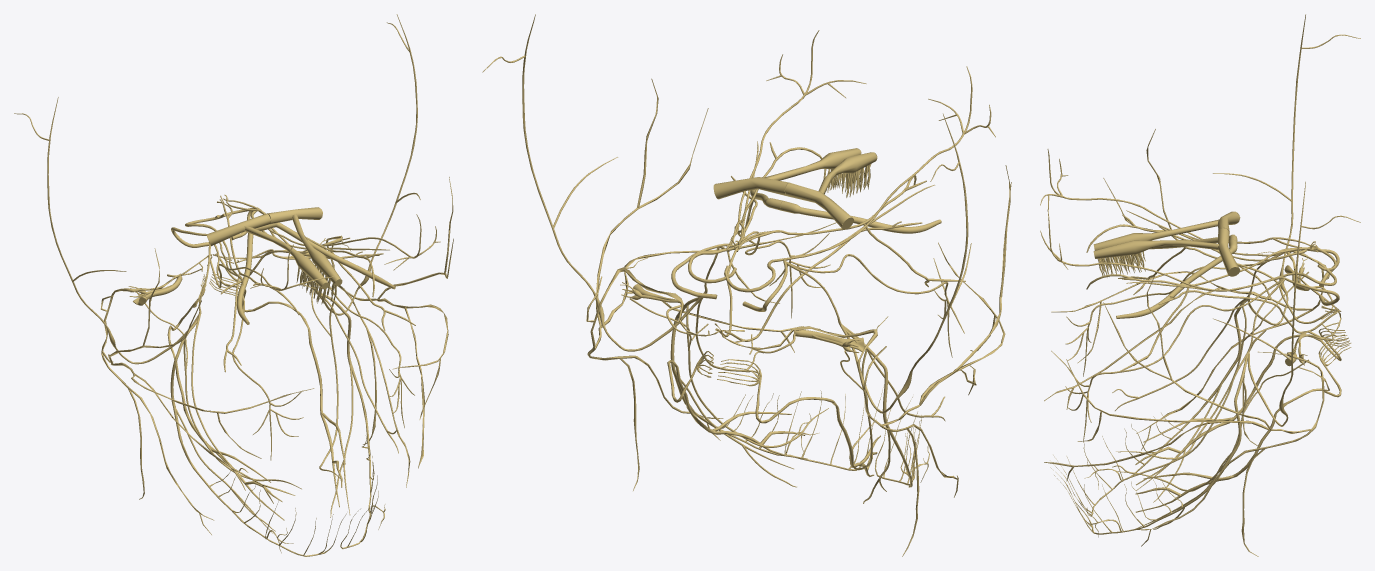
File: nervous-head-mobile.glb
The picture shows the model from 3 angles, left to right: view 1: azimuth 30°, elevation 25°; view 2: azimuth 150°, elevation 25°; view 3: azimuth 270°, elevation 25°; orthographic projection. The views are drawn at different scales.
Parts seen in each view (by area): view 1: za.facial-nerve-vii-r, za.facial-nerve-vii-l, za.olfactory-nerve-i-r, za.olfactory-nerve-i-l, za.hypoglossal-nerve-xii-l, za.meningeal-branch-of-maxillary-nerve-r, za.hypoglossal-nerve-xii-r, za.inferior-alveolar-nerve-r, za.meningeal-branch-of-maxillary-nerve-l, za.oculomotor-nerve-iii-l, za.inferior-alveolar-nerve-l, za.optic-nerve-ii-l (+4 smaller); view 2: za.facial-nerve-vii-l, za.facial-nerve-vii-r, za.olfactory-nerve-i-r, za.olfactory-nerve-i-l, za.meningeal-branch-of-maxillary-nerve-l, za.hypoglossal-nerve-xii-l, za.hypoglossal-nerve-xii-r, za.meningeal-branch-of-maxillary-nerve-r, za.inferior-alveolar-nerve-l, za.oculomotor-nerve-iii-r, za.ophthalmic-nerve-r, za.optic-nerve-ii-r (+7 smaller); view 3: za.facial-nerve-vii-l, za.facial-nerve-vii-r, za.olfactory-nerve-i-l, za.hypoglossal-nerve-xii-l, za.olfactory-nerve-i-r, za.hypoglossal-nerve-xii-r, za.meningeal-branch-of-maxillary-nerve-l, za.meningeal-branch-of-maxillary-nerve-r, za.inferior-alveolar-nerve-l, za.inferior-alveolar-nerve-r, za.oculomotor-nerve-iii-l, za.maxillary-nerve-l (+11 smaller).
Part boxes in pixels (bbox=[...]): za.facial-nerve-vii-r: bbox=[100, 248, 314, 534]; za.facial-nerve-vii-l: bbox=[212, 177, 453, 487]; za.olfactory-nerve-i-r: bbox=[206, 213, 329, 304]; za.olfactory-nerve-i-l: bbox=[267, 207, 342, 301]; za.hypoglossal-nerve-xii-l: bbox=[209, 272, 345, 507]; za.meningeal-branch-of-maxillary-nerve-r: bbox=[14, 97, 198, 364]; za.hypoglossal-nerve-xii-r: bbox=[167, 274, 284, 520]; za.inferior-alveolar-nerve-r: bbox=[173, 405, 346, 556]; za.meningeal-branch-of-maxillary-nerve-l: bbox=[316, 14, 420, 315]; za.oculomotor-nerve-iii-l: bbox=[223, 194, 415, 330]; za.inferior-alveolar-nerve-l: bbox=[340, 362, 382, 549]; za.optic-nerve-ii-l: bbox=[265, 222, 395, 289]; za.facial-nerve-vii-l: bbox=[586, 78, 836, 490]; za.facial-nerve-vii-r: bbox=[721, 165, 1011, 556]; za.olfactory-nerve-i-r: bbox=[785, 152, 877, 229]; za.olfactory-nerve-i-l: bbox=[713, 148, 861, 199]; za.meningeal-branch-of-maxillary-nerve-l: bbox=[482, 14, 706, 351]; za.hypoglossal-nerve-xii-l: bbox=[667, 351, 807, 459]; za.hypoglossal-nerve-xii-r: bbox=[717, 359, 880, 476]; za.meningeal-branch-of-maxillary-nerve-r: bbox=[840, 113, 971, 413]; za.inferior-alveolar-nerve-l: bbox=[673, 373, 883, 470]; za.oculomotor-nerve-iii-r: bbox=[734, 175, 965, 287]; za.ophthalmic-nerve-r: bbox=[783, 66, 995, 261]; za.optic-nerve-ii-r: bbox=[780, 201, 941, 233]; za.facial-nerve-vii-l: bbox=[1044, 274, 1341, 556]; za.facial-nerve-vii-r: bbox=[1044, 129, 1341, 450]; za.olfactory-nerve-i-l: bbox=[1093, 228, 1240, 277]; za.hypoglossal-nerve-xii-l: bbox=[1135, 334, 1351, 512]; za.olfactory-nerve-i-r: bbox=[1093, 211, 1240, 271]; za.hypoglossal-nerve-xii-r: bbox=[1135, 328, 1351, 485]; za.meningeal-branch-of-maxillary-nerve-l: bbox=[1213, 181, 1360, 426]; za.meningeal-branch-of-maxillary-nerve-r: bbox=[1213, 14, 1360, 325]; za.inferior-alveolar-nerve-l: bbox=[1050, 448, 1236, 534]; za.inferior-alveolar-nerve-r: bbox=[1050, 361, 1236, 515]; za.oculomotor-nerve-iii-l: bbox=[1086, 243, 1318, 372]; za.maxillary-nerve-l: bbox=[1065, 278, 1284, 442].
Size of the model in its own units: 0.1525 by 0.1636 by 0.1123.
